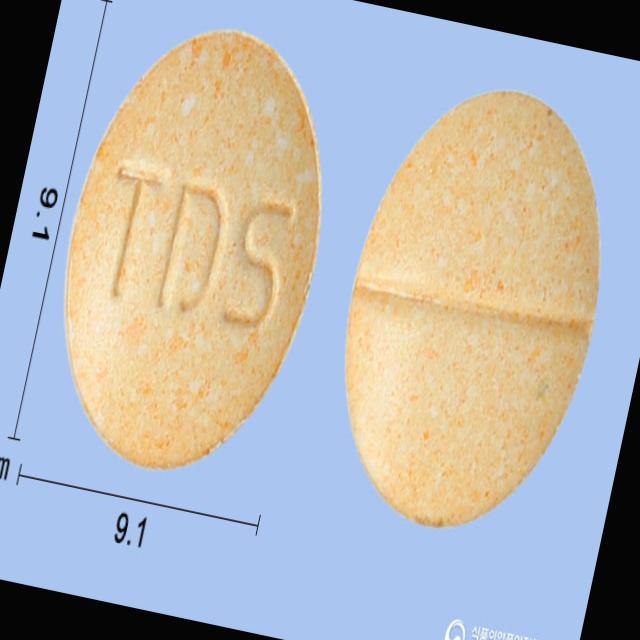Doxiendi: (28, 4, 360, 492)
